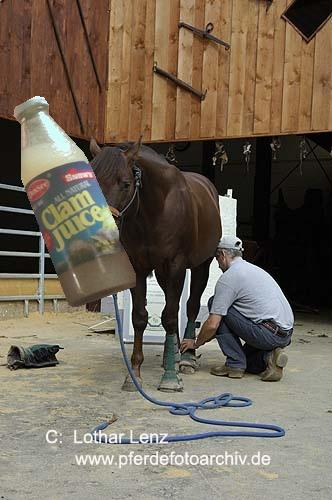tampered: (14, 97, 136, 307)
